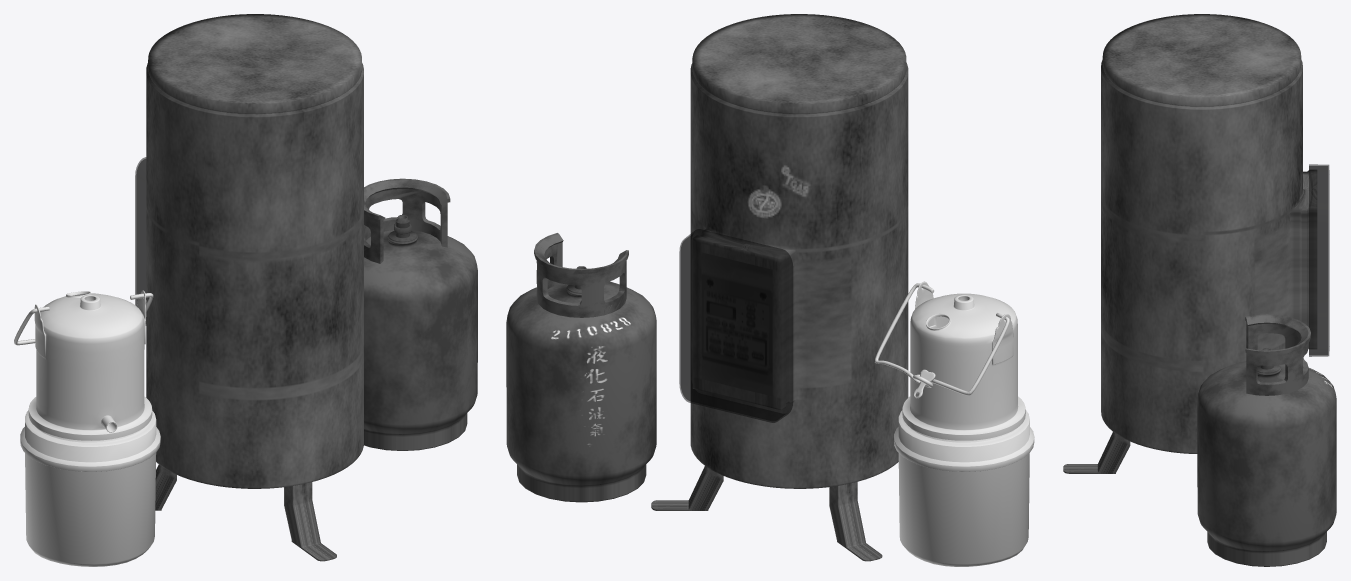
Rendered from water heater.fbx.
The picture shows the model from 3 angles, left to right: view 1: azimuth 30°, elevation 25°; view 2: azimuth 150°, elevation 25°; view 3: azimuth 270°, elevation 25°; orthographic projection. The views are drawn at different scales.
Parts seen in each view (by area): view 1: Cylinder, Body_low, Ore_Lamp_Font_low, Ore_Lamp_Holder_low, Top_low, Cube, Grid, Cube.002; view 2: Cylinder, Body_low, Grid, Ore_Lamp_Font_low, Ore_Lamp_Holder_low, Top_low, Cube.002, Cube.001, Ore_Lamp_Loop_low; view 3: Cylinder, Body_low, Grid, Top_low, Cube.
Boxes of the visible parts, <box> form: Cylinder: <box>146,14,363,488</box>; Body_low: <box>364,215,477,450</box>; Ore_Lamp_Font_low: <box>20,410,160,566</box>; Ore_Lamp_Holder_low: <box>28,290,152,440</box>; Top_low: <box>364,178,450,263</box>; Cube: <box>284,482,336,561</box>; Grid: <box>135,157,146,325</box>; Cube.002: <box>155,464,176,510</box>; Cylinder: <box>690,14,908,488</box>; Body_low: <box>506,266,656,502</box>; Grid: <box>679,229,793,422</box>; Ore_Lamp_Font_low: <box>894,410,1034,566</box>; Ore_Lamp_Holder_low: <box>902,281,1025,440</box>; Top_low: <box>534,233,628,317</box>; Cube.002: <box>829,482,882,561</box>; Cube.001: <box>651,466,723,510</box>; Ore_Lamp_Loop_low: <box>875,283,1009,395</box>; Cylinder: <box>1101,14,1317,453</box>; Body_low: <box>1197,348,1336,566</box>; Grid: <box>1309,164,1329,356</box>; Top_low: <box>1245,314,1310,395</box>; Cube: <box>1063,432,1130,473</box>.
Bounding box in the file's own units: 788 × 710 × 425.
Materials: 5 (3 with a texture image).
